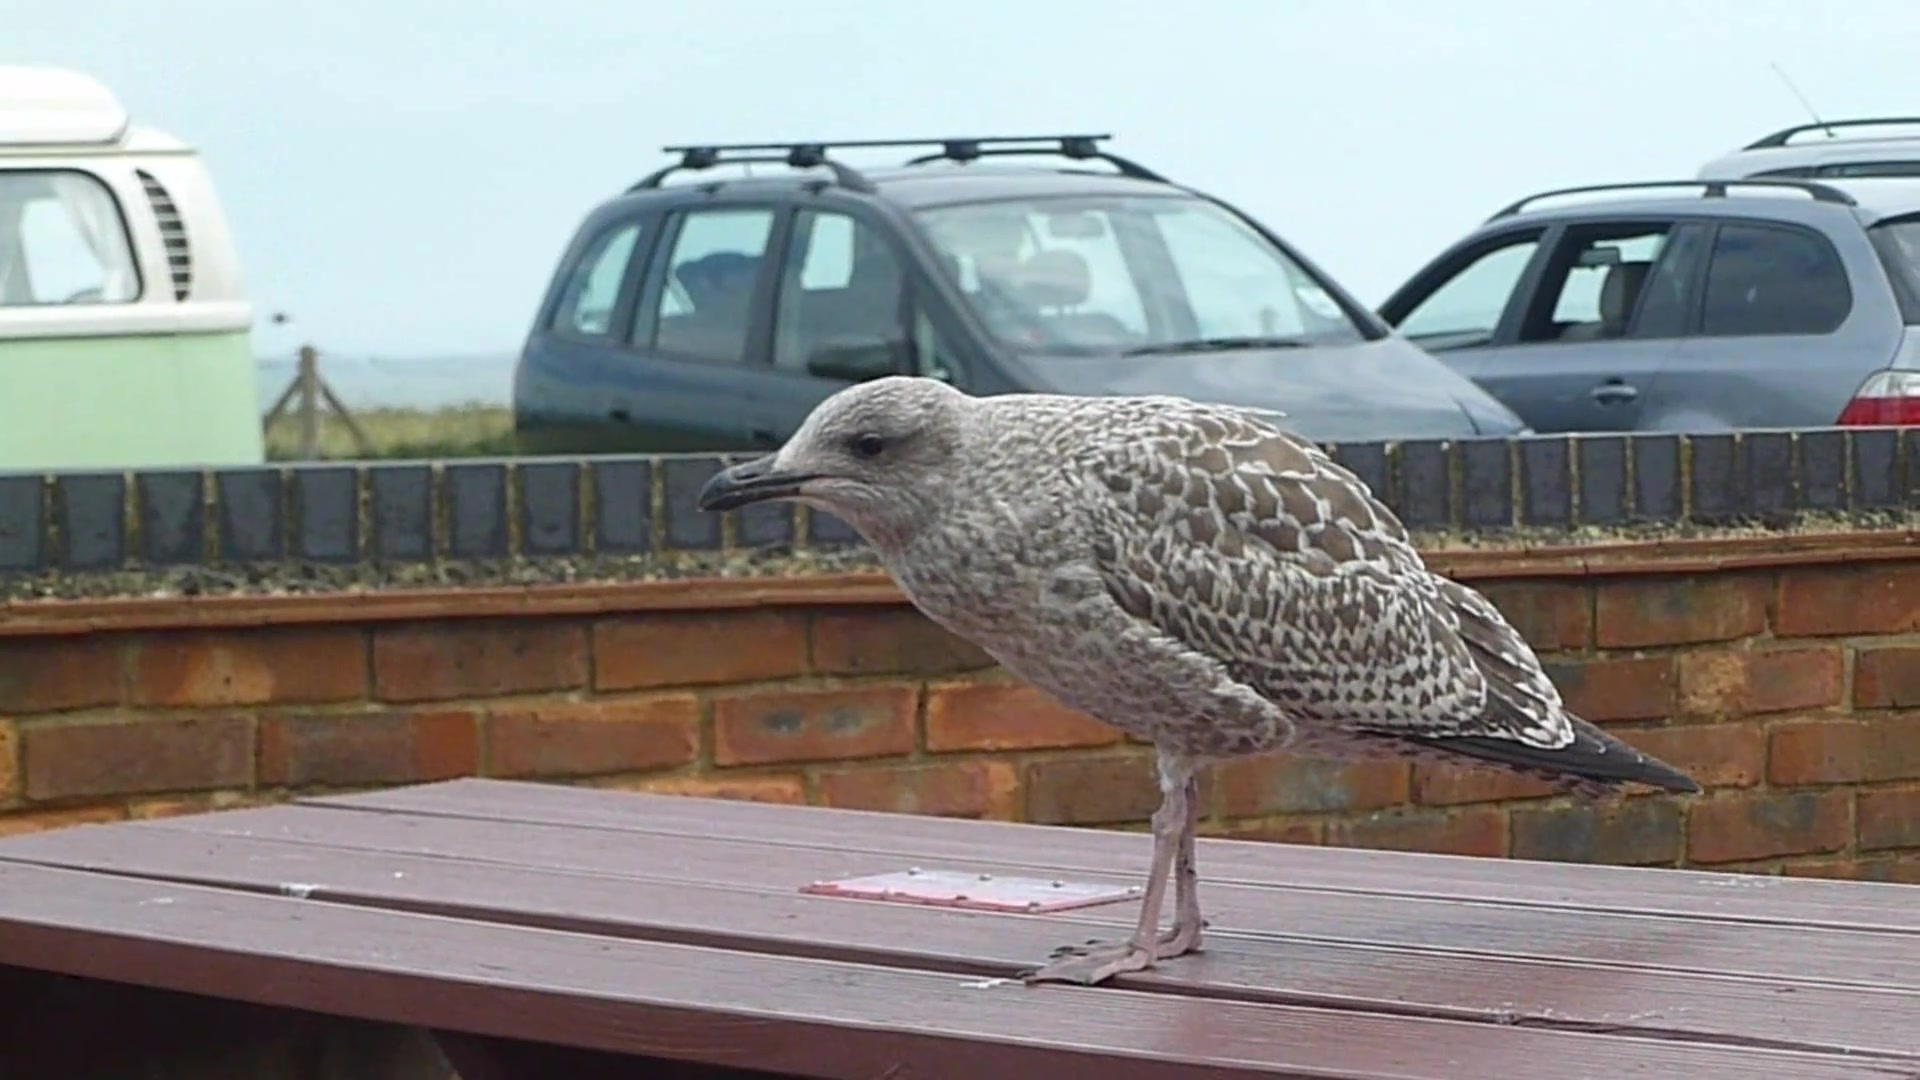bird: (694, 377, 1712, 992)
